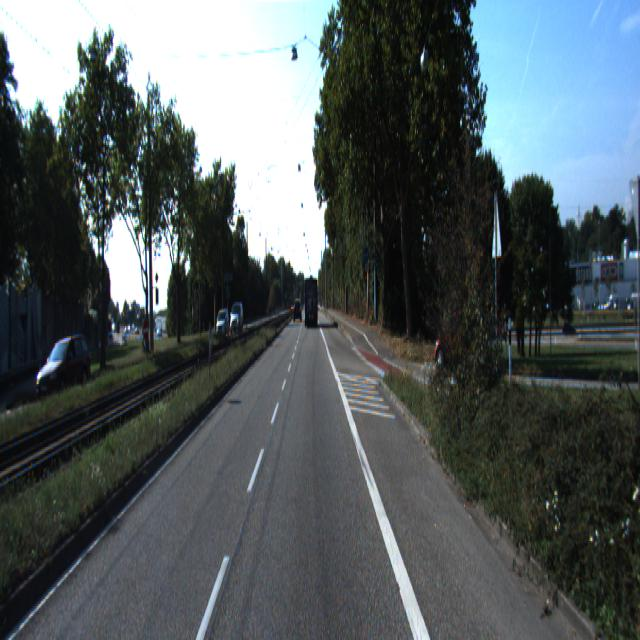Car: (34, 336, 94, 400), (434, 307, 489, 374), (304, 276, 318, 328), (216, 310, 230, 340)
